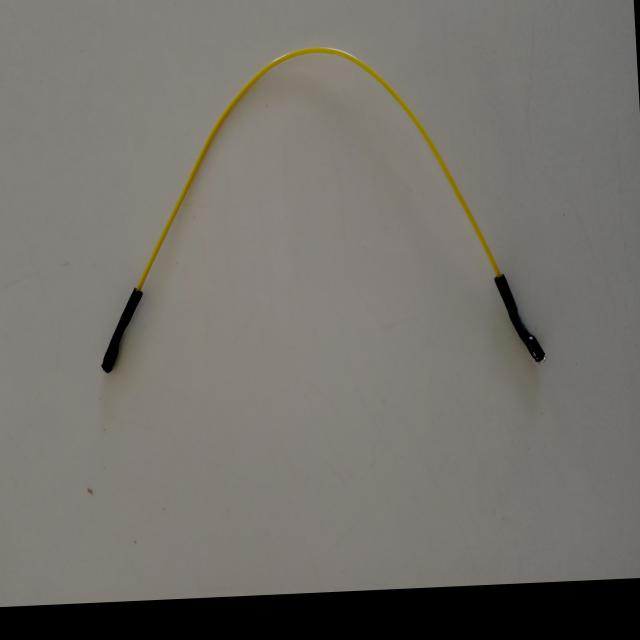BNC Cables Both Clips: (65, 24, 552, 390)
